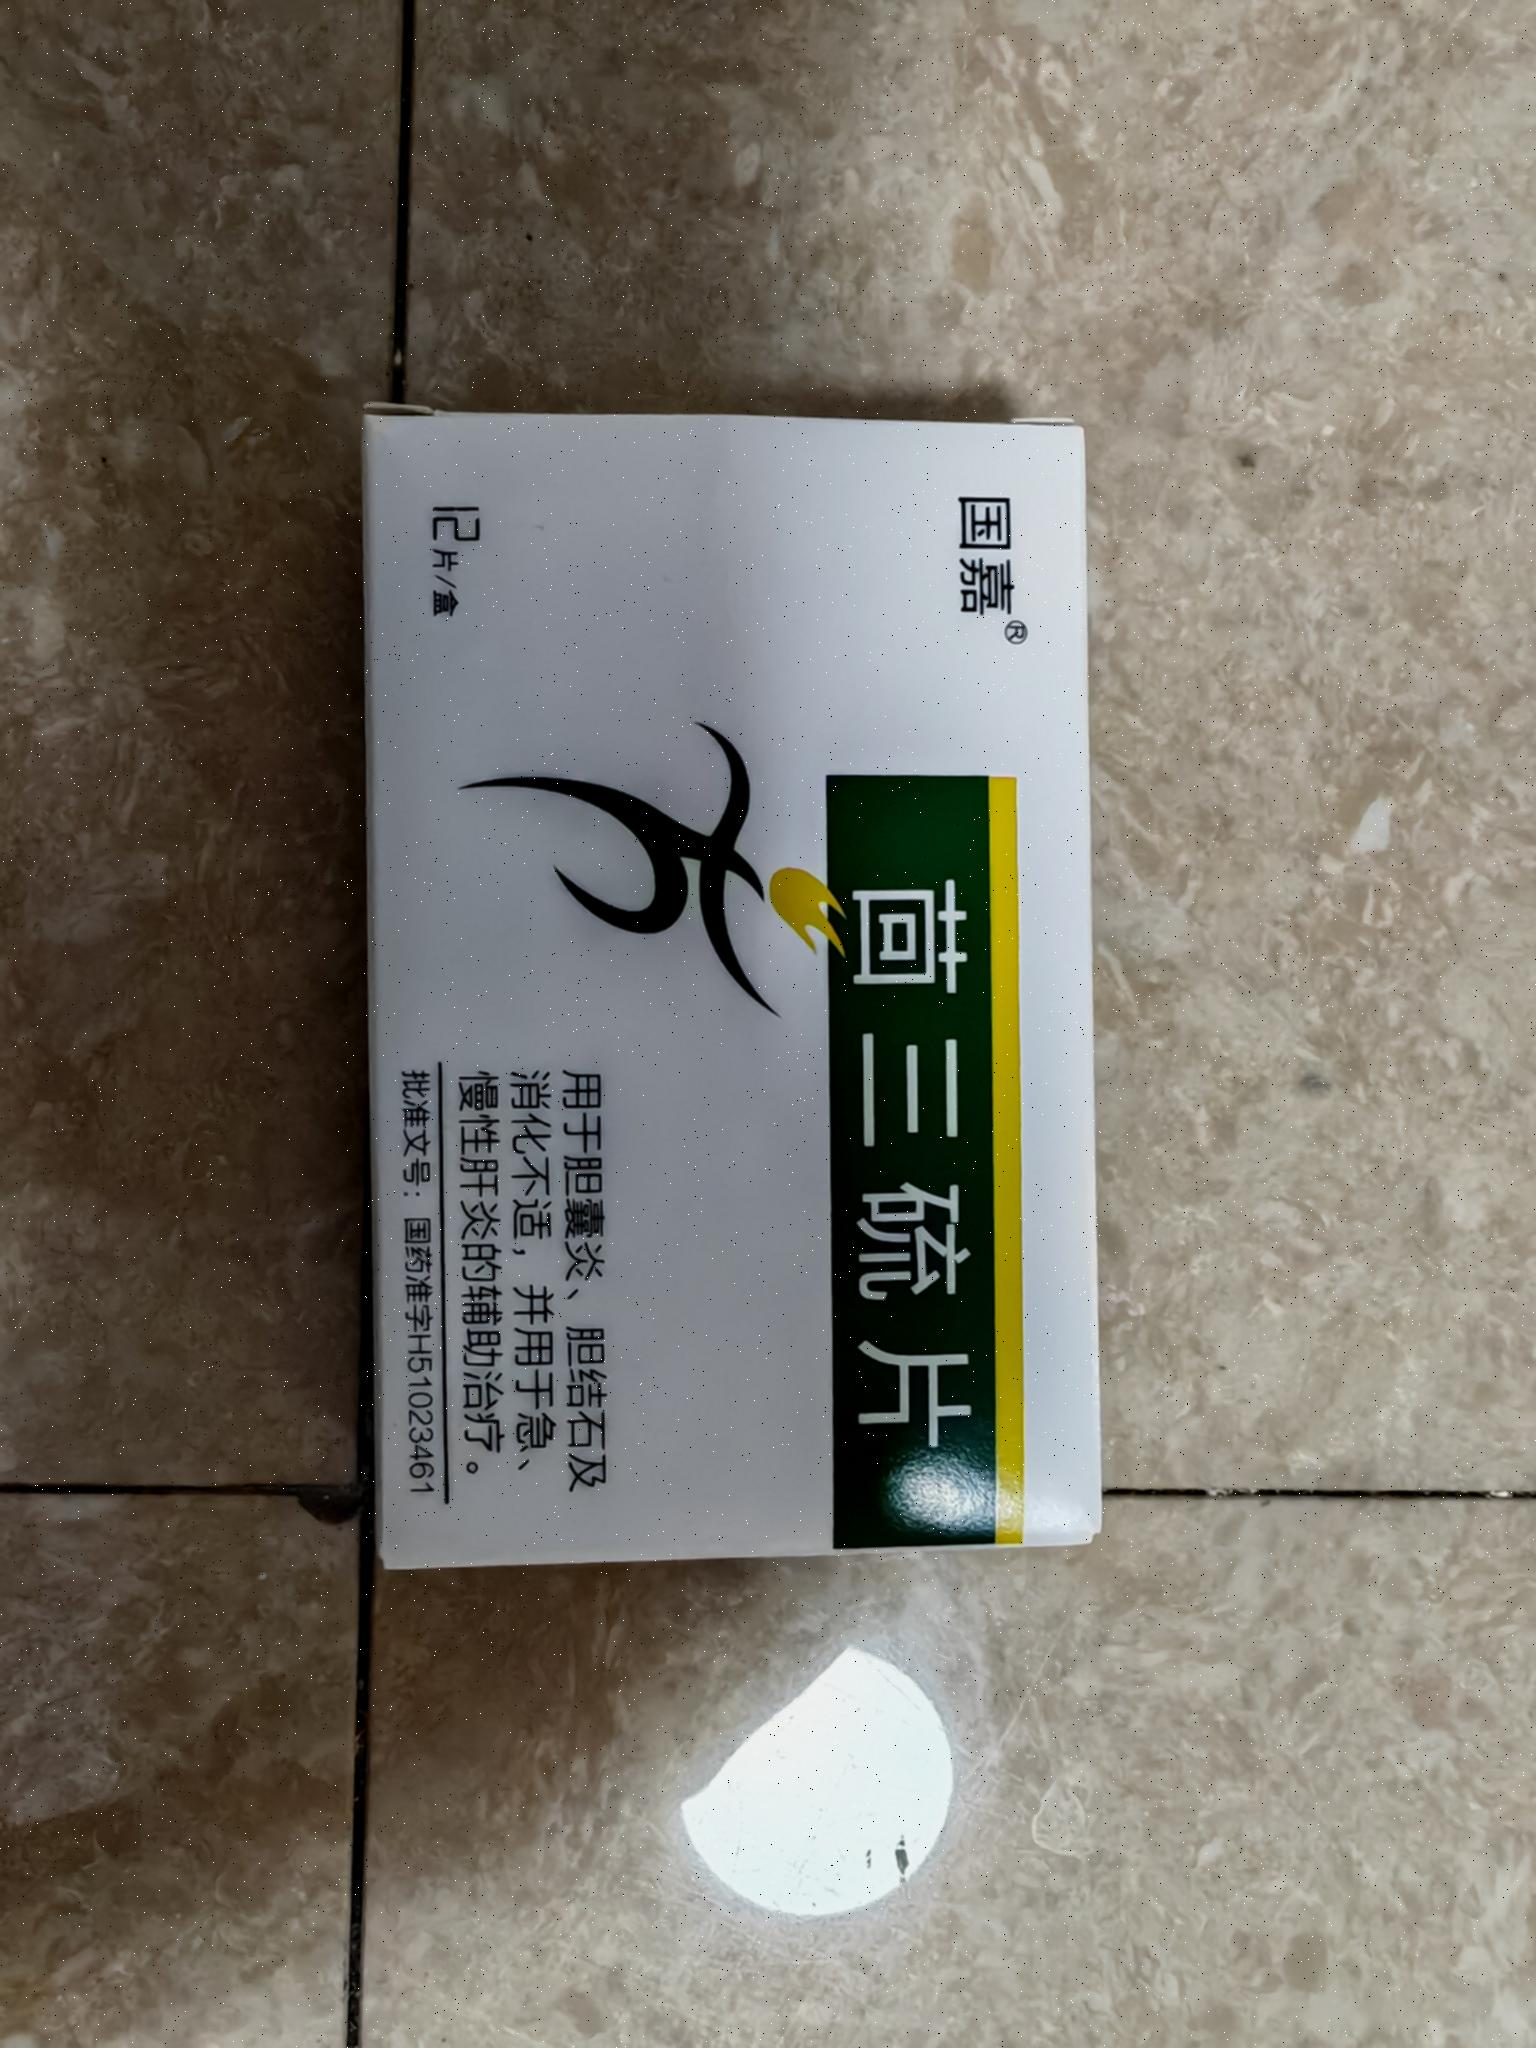Medicine4: (332, 376, 1125, 1582)
